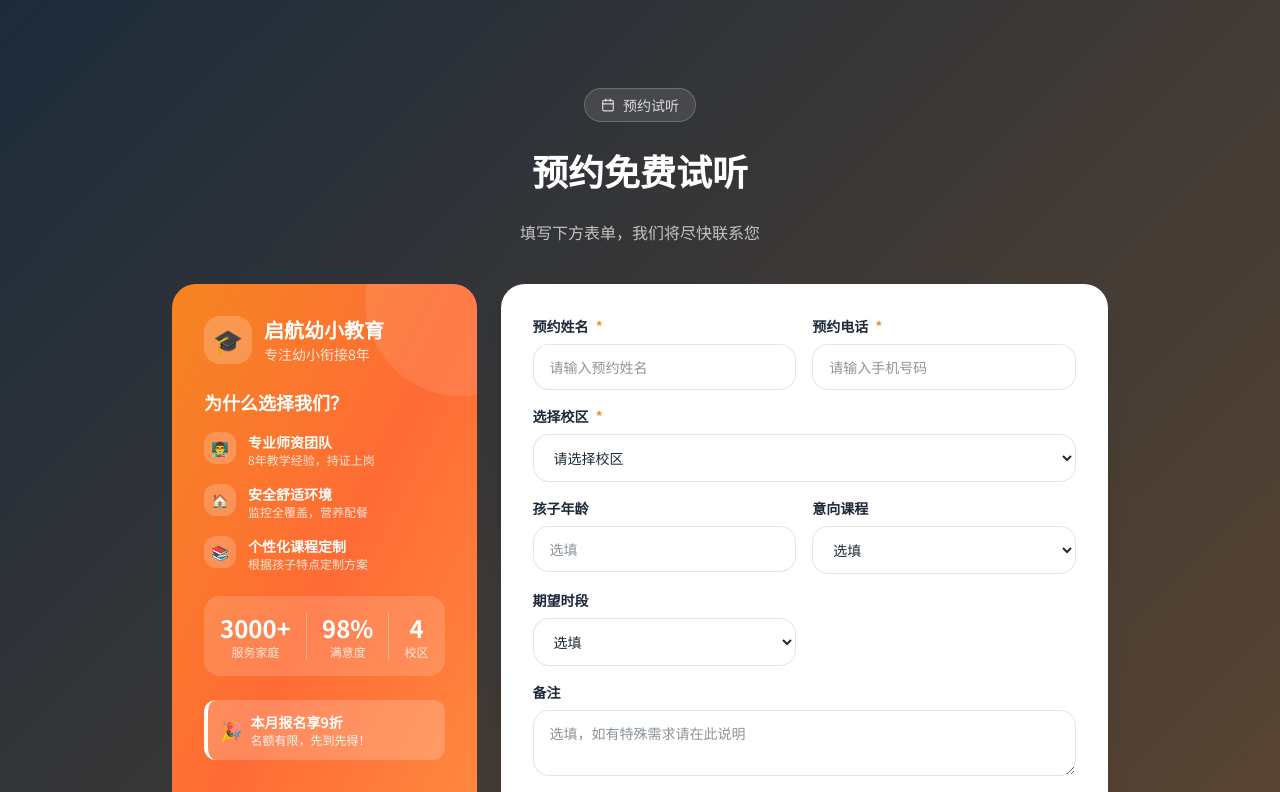
ContactForm 组件 › 提交失败时显示错误消息
Type "小明" into the field labelled "预约姓名 *" at (664, 367), box [533,344,796,390]
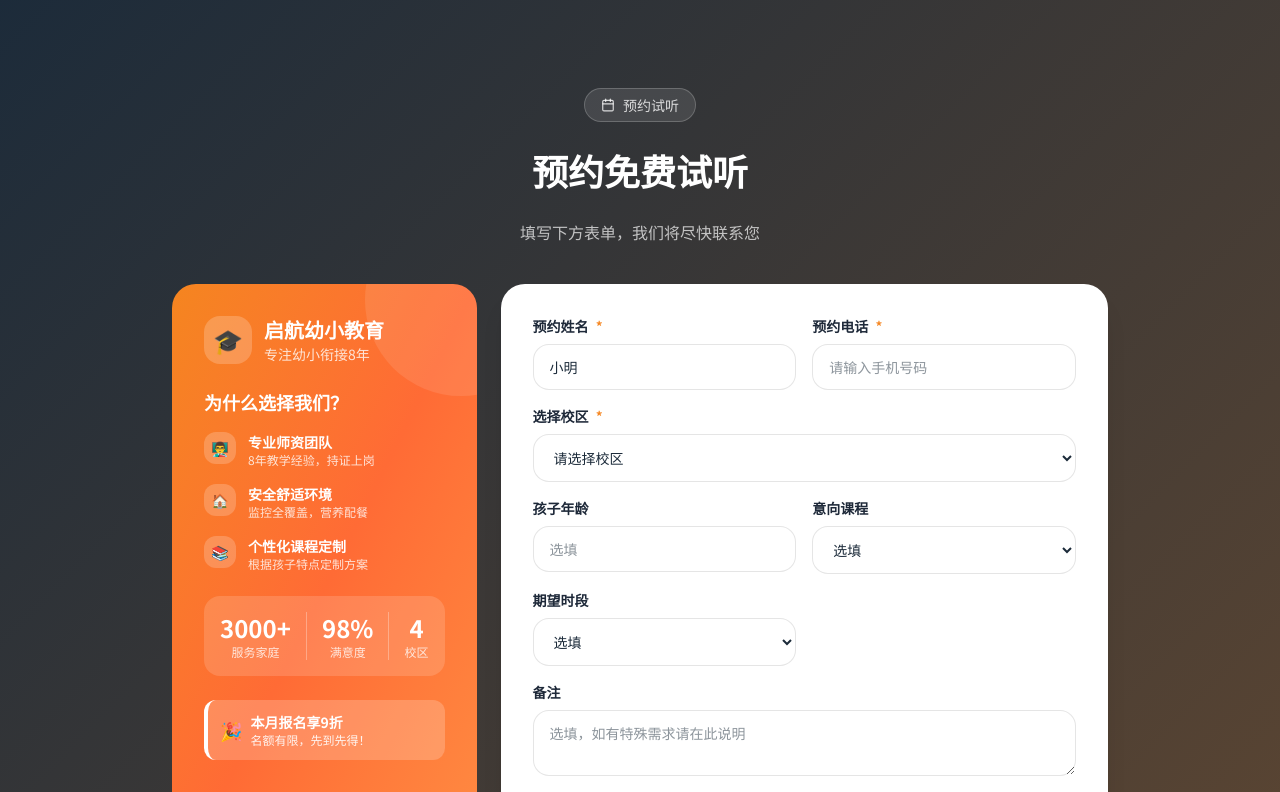
Type "13800138000" into the field labelled "预约电话 *" at (944, 367), box [812,344,1076,390]
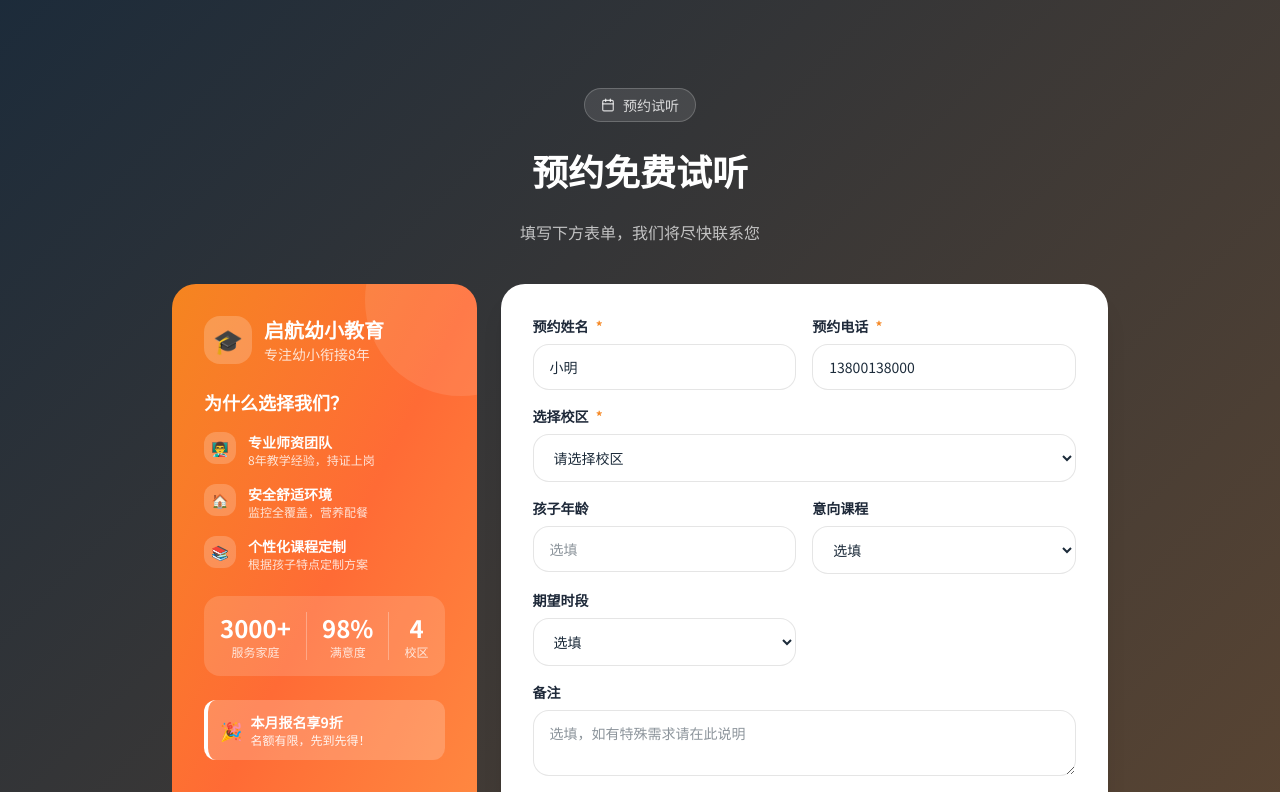
Select "朝阳校区" in the dropdown labelled "选择校区 *" at (804, 458), box [533,434,1076,482]
(page scrolled)
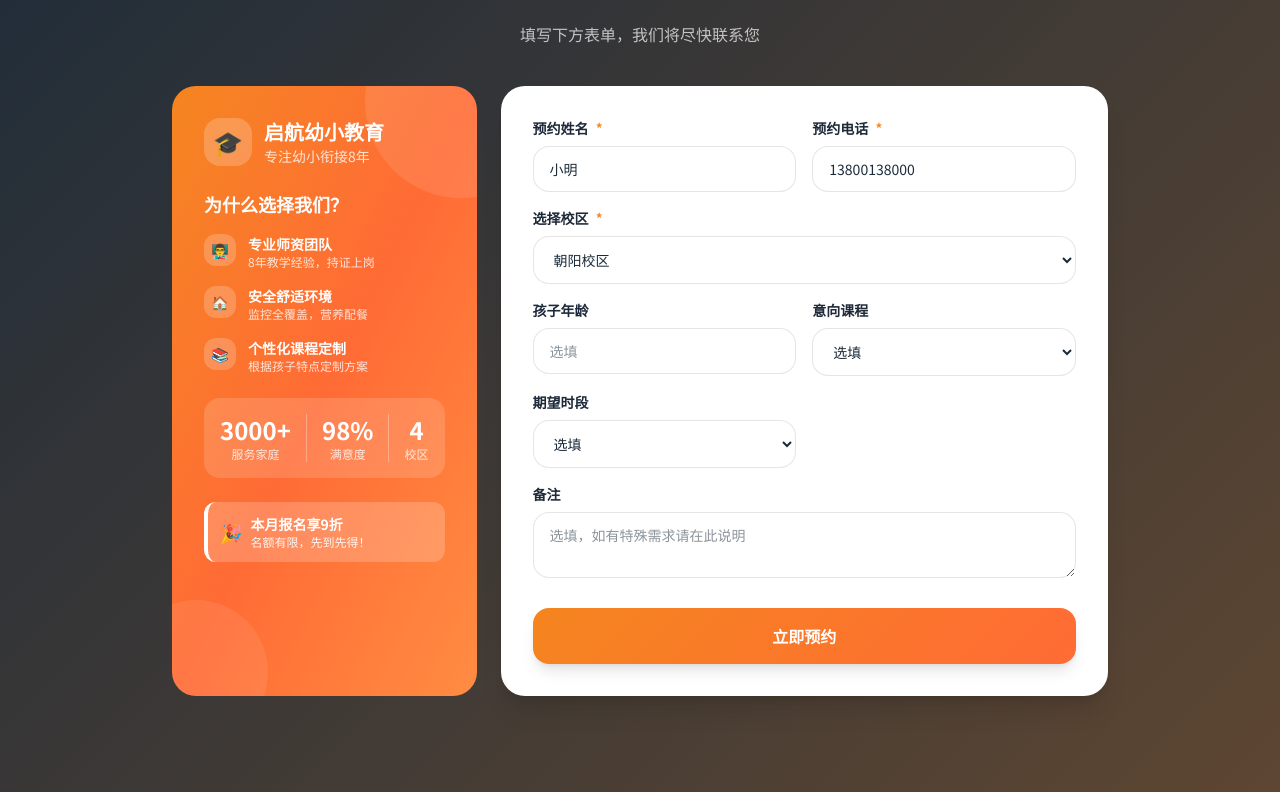
Click the button "立即预约" at (804, 636), box [533,608,1076,664]
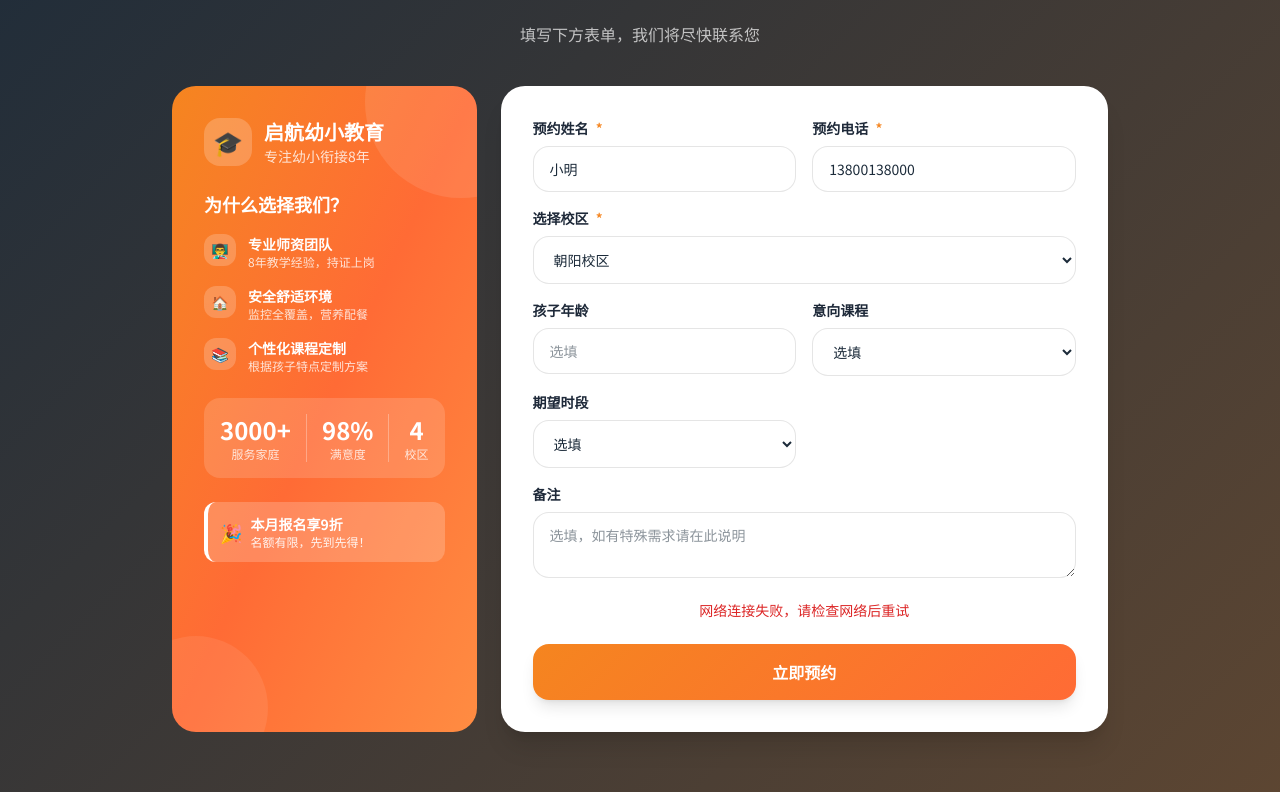
Expected: the text "网络连接失败，请检查网络后重试" is shown, [699,600,909,620]
